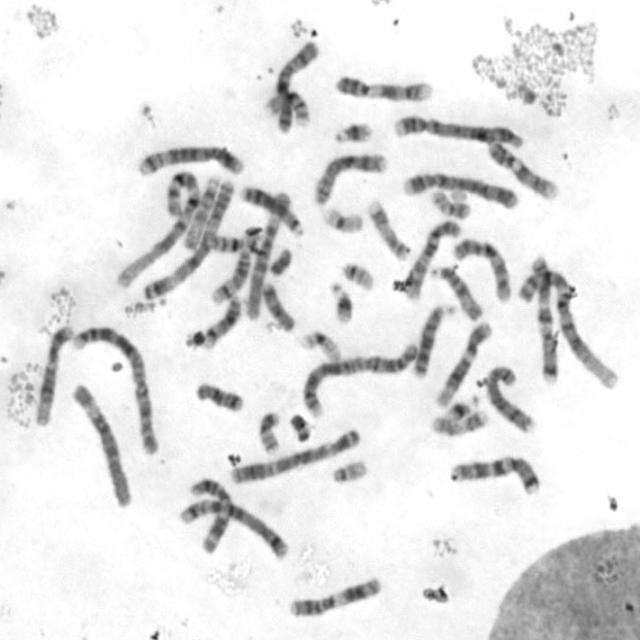A1: (520, 268, 620, 391), (112, 167, 210, 289)
A2: (68, 321, 160, 456), (297, 338, 420, 418)
A3: (225, 424, 364, 486), (138, 230, 248, 301)
B4: (399, 168, 519, 211), (390, 112, 524, 150)
B5: (174, 492, 290, 560), (135, 142, 246, 177)
C10: (398, 215, 462, 301), (449, 234, 512, 303)
C11: (284, 572, 384, 619), (189, 474, 235, 555)
C12: (433, 318, 492, 408), (30, 319, 74, 426)
C6: (68, 379, 134, 509), (240, 184, 292, 322)
C7: (446, 452, 541, 496), (529, 250, 559, 386)
C8: (309, 149, 388, 207), (483, 362, 538, 435)
C9: (484, 137, 559, 201), (331, 71, 436, 104)
D13: (238, 180, 304, 238), (409, 299, 456, 378)
D14: (207, 247, 252, 305), (201, 292, 243, 349)
D15: (180, 174, 228, 252), (428, 260, 484, 322)
E16: (261, 87, 312, 130), (199, 228, 253, 254)
E17: (365, 195, 412, 263), (428, 406, 489, 438)
E18: (259, 278, 296, 334), (192, 378, 245, 413)
F19: (297, 328, 342, 362), (318, 203, 364, 236)
F20: (426, 184, 472, 220), (255, 407, 282, 456)
G21: (438, 392, 481, 426), (328, 277, 357, 327), (330, 118, 374, 146)
G22: (338, 258, 376, 292), (329, 454, 369, 486)
X: (271, 36, 321, 135)
Y: (266, 243, 294, 277), (286, 408, 313, 443)
